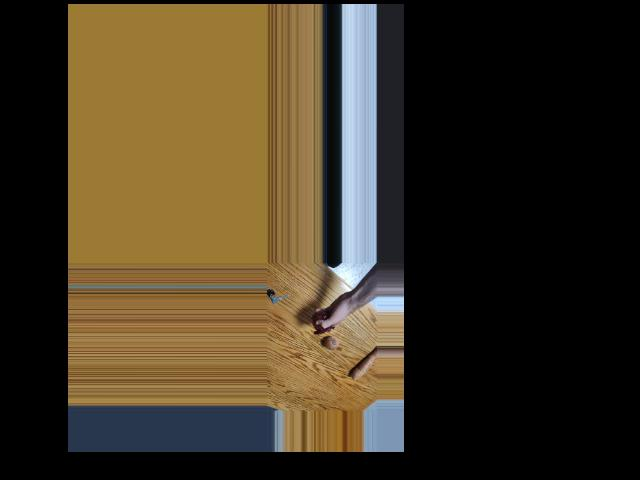onion: (324, 334, 338, 350)
